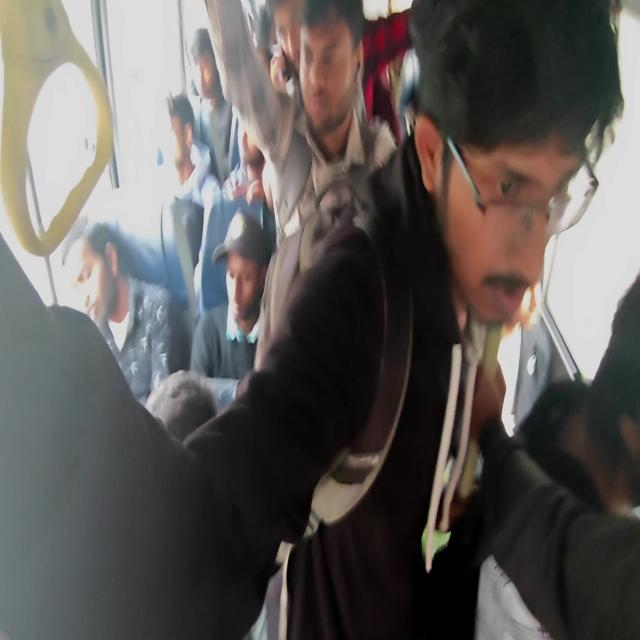person: (141, 378, 257, 633), (441, 123, 575, 328), (60, 228, 133, 338), (298, 15, 354, 137), (589, 383, 640, 508), (247, 139, 276, 255), (230, 280, 261, 324), (254, 35, 275, 76), (198, 68, 218, 99), (169, 120, 192, 146)
